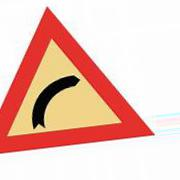right: (1, 6, 157, 152)
